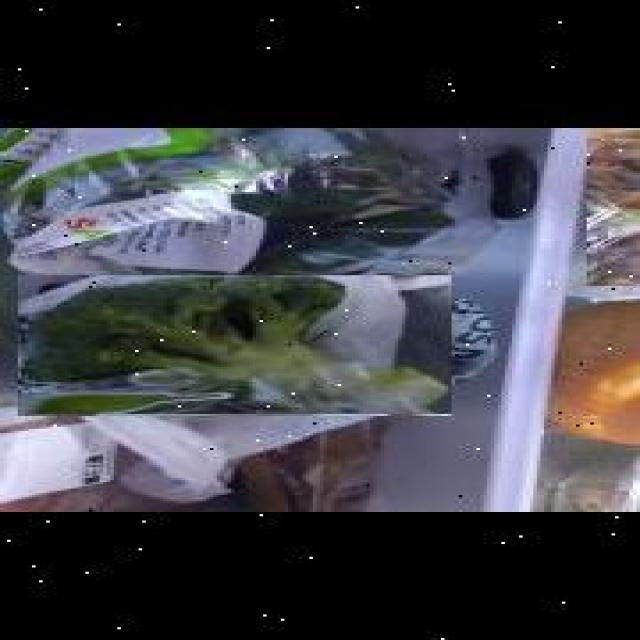broccoli: (14, 276, 448, 417)
humus: (544, 288, 640, 463)
pineapple: (579, 128, 640, 286)
